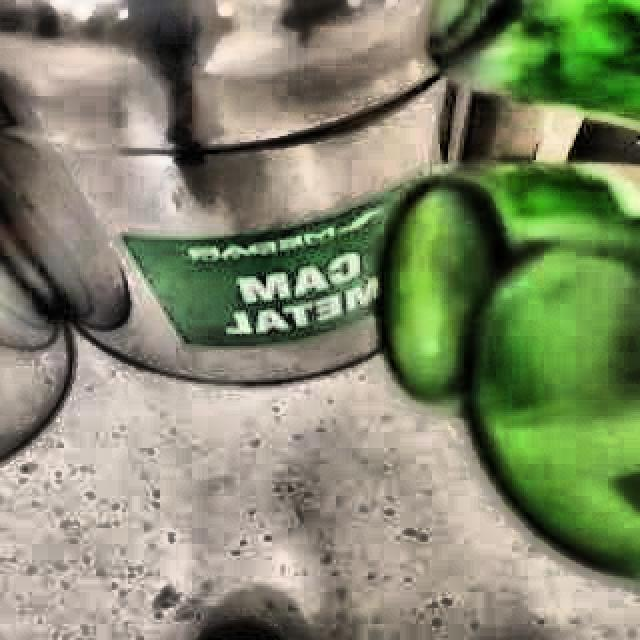glass: (379, 162, 640, 579)
